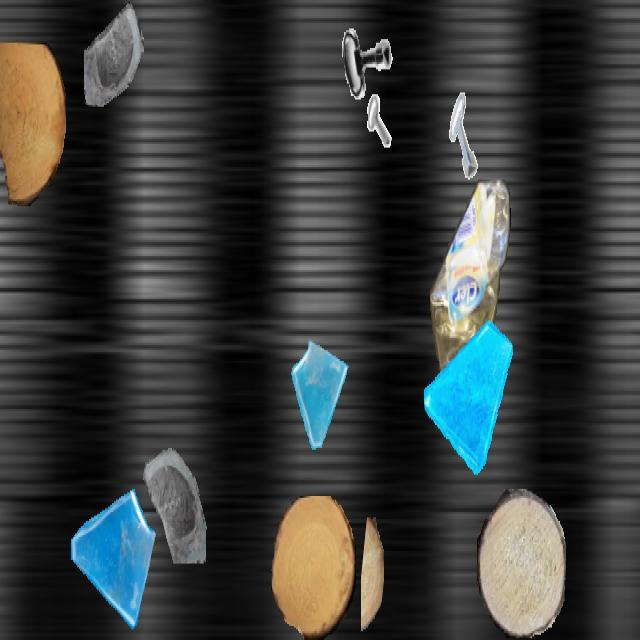glass: (67, 478, 157, 638), (424, 314, 514, 474), (133, 426, 209, 562), (288, 338, 352, 452), (84, 2, 144, 108)
metal: (335, 2, 397, 112), (441, 90, 491, 180), (343, 91, 391, 176)
plastic: (430, 180, 512, 439)
wood: (477, 489, 565, 638), (271, 496, 355, 638), (0, 43, 65, 206), (361, 518, 383, 638)
